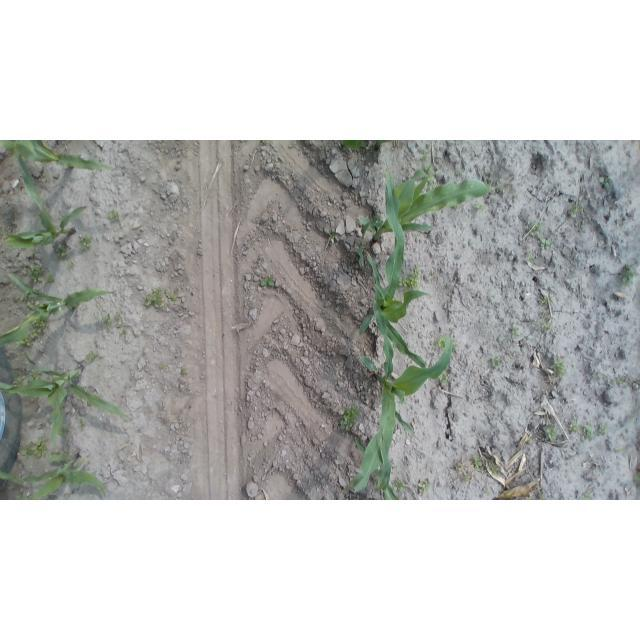Maize: (348, 298, 456, 496), (354, 161, 512, 267), (358, 185, 430, 369), (0, 355, 130, 456), (1, 267, 116, 351), (1, 154, 89, 250), (1, 144, 102, 221), (1, 451, 106, 499), (1, 140, 114, 182), (352, 429, 405, 499), (340, 140, 396, 150)
Weeds: (142, 285, 179, 311), (20, 438, 50, 460), (339, 404, 361, 433), (25, 321, 47, 344), (401, 268, 422, 291), (618, 262, 636, 288), (550, 358, 567, 378), (532, 315, 553, 331), (419, 165, 435, 185), (21, 294, 39, 311), (28, 267, 44, 286), (525, 220, 543, 236), (543, 426, 559, 443), (258, 274, 276, 289), (487, 458, 502, 475), (79, 233, 93, 251), (582, 423, 595, 441), (418, 479, 433, 494), (569, 202, 584, 217), (490, 355, 504, 369), (55, 246, 69, 260), (392, 480, 407, 493), (435, 335, 448, 350), (28, 370, 43, 383), (102, 314, 113, 331), (108, 208, 121, 222), (539, 237, 553, 250), (85, 351, 100, 363), (568, 419, 580, 434), (471, 456, 483, 471), (327, 228, 338, 244), (597, 421, 608, 437), (471, 203, 487, 214), (524, 253, 537, 266), (540, 295, 553, 308), (599, 174, 611, 188), (438, 371, 450, 385), (509, 324, 520, 338), (77, 417, 87, 431), (420, 148, 431, 160), (615, 375, 626, 386), (536, 487, 546, 499), (462, 472, 473, 482), (58, 429, 70, 438), (45, 274, 57, 283), (580, 491, 593, 499), (179, 366, 189, 376), (454, 462, 465, 471), (157, 362, 168, 371), (13, 374, 24, 383), (451, 336, 458, 350), (15, 492, 27, 500), (614, 446, 626, 454), (632, 471, 638, 485), (454, 170, 463, 179), (596, 372, 605, 380), (114, 312, 121, 321), (1, 230, 8, 239), (66, 261, 74, 268), (260, 140, 269, 146), (49, 450, 59, 455), (119, 328, 126, 335), (628, 414, 634, 421), (487, 179, 494, 185), (528, 437, 534, 443), (378, 146, 382, 153), (455, 204, 460, 209), (116, 324, 120, 328)
